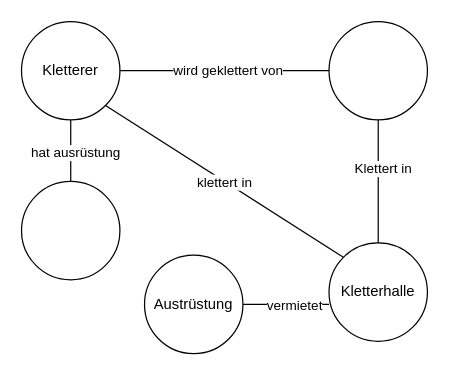
The diagram is 449 pixels wide and 375 high, and some of its shapes have lost their labels. Here are the shapes that lost their labels. From the top down, the centre of each, then its label:
At point (377, 70): "Kletterroute".
At point (70, 230): "Ausrüstung".
